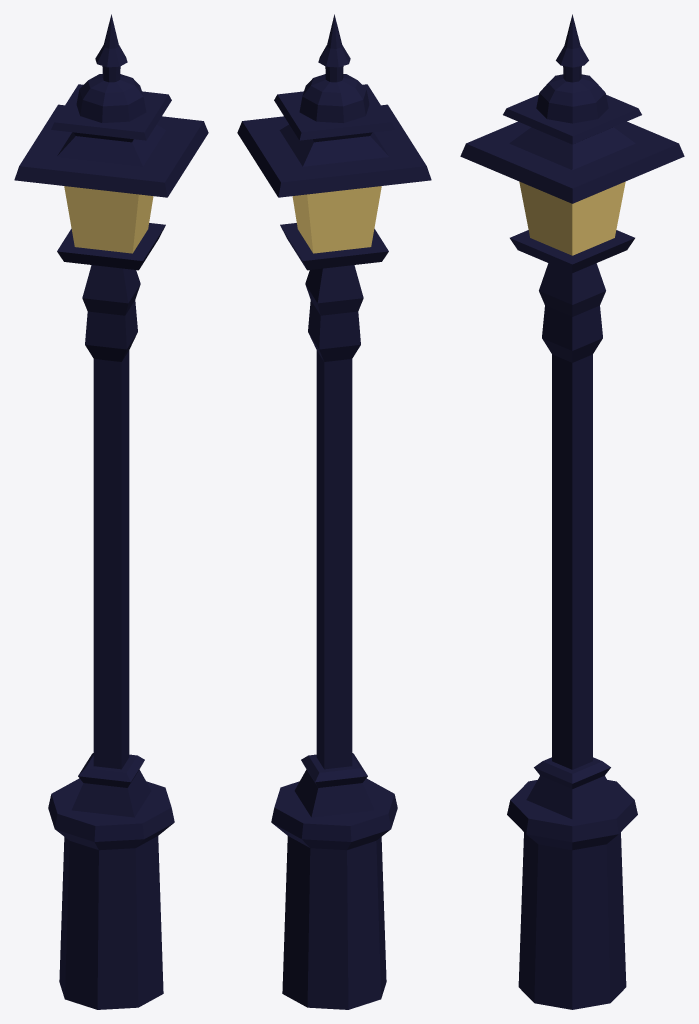
The model's file is gothic_light.fbx.
3 views of the same model, side by side, from view 1: azimuth 30°, elevation 25°; view 2: azimuth 150°, elevation 25°; view 3: azimuth 270°, elevation 25° (orthographic).
Visible parts, largest first — view 1: light; view 2: light; view 3: light.
Part boxes in pixels (x1,y1,x2,y2): light: (14, 14, 208, 1009); light: (237, 14, 431, 1009); light: (460, 14, 684, 1009).
Size of the model in its own units: 125 by 598 by 125.
